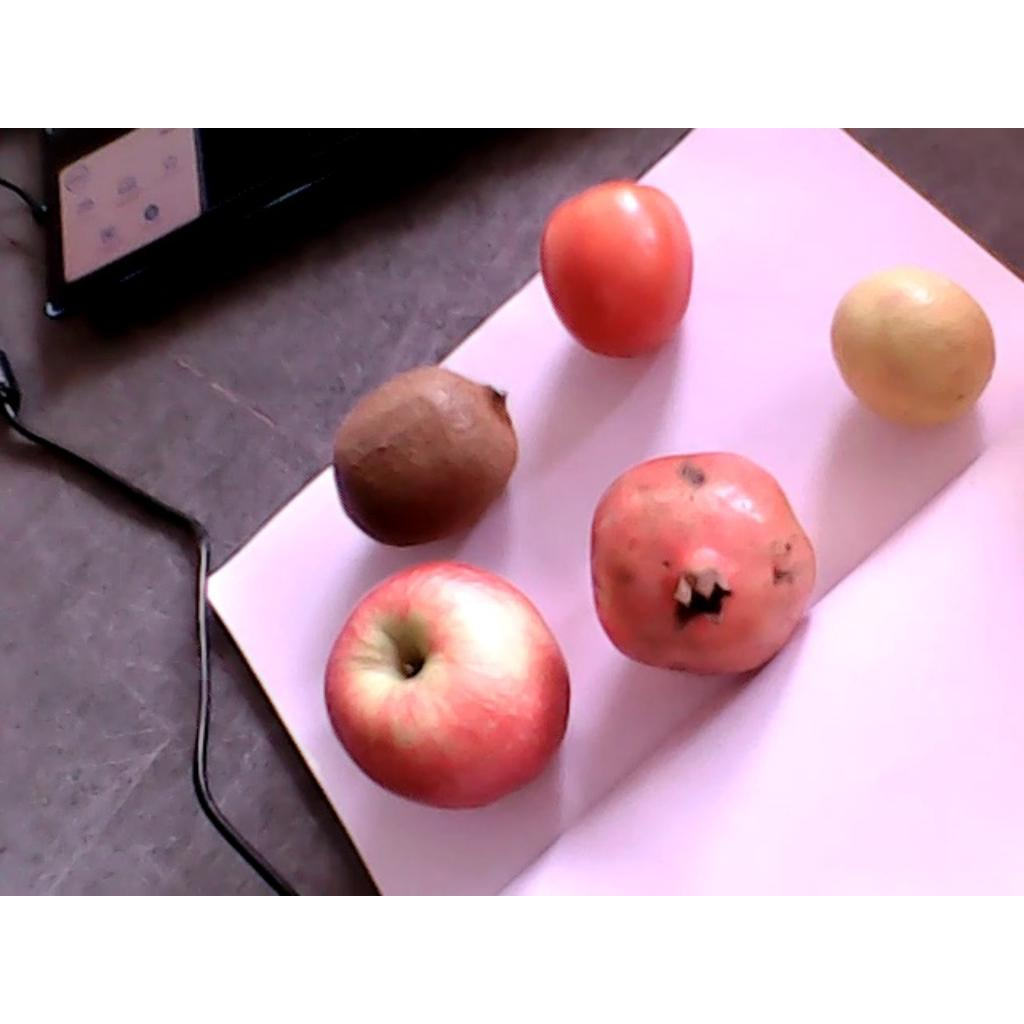apple: (326, 561, 570, 809)
kiwi: (331, 366, 518, 548)
lemon: (833, 271, 996, 425)
pomegranate: (591, 451, 816, 674)
tomato: (542, 176, 693, 358)
